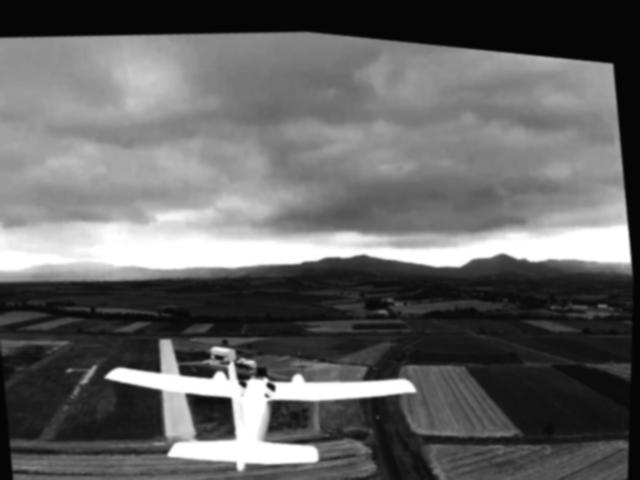hedef: (99, 319, 433, 480)
